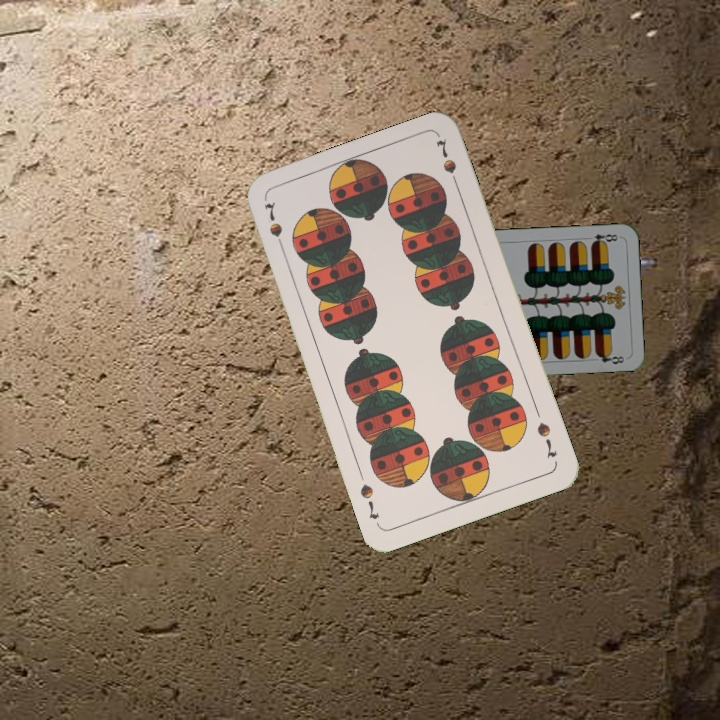E8: (582, 230, 622, 247)
S7: (260, 198, 287, 254), (533, 417, 560, 461)
